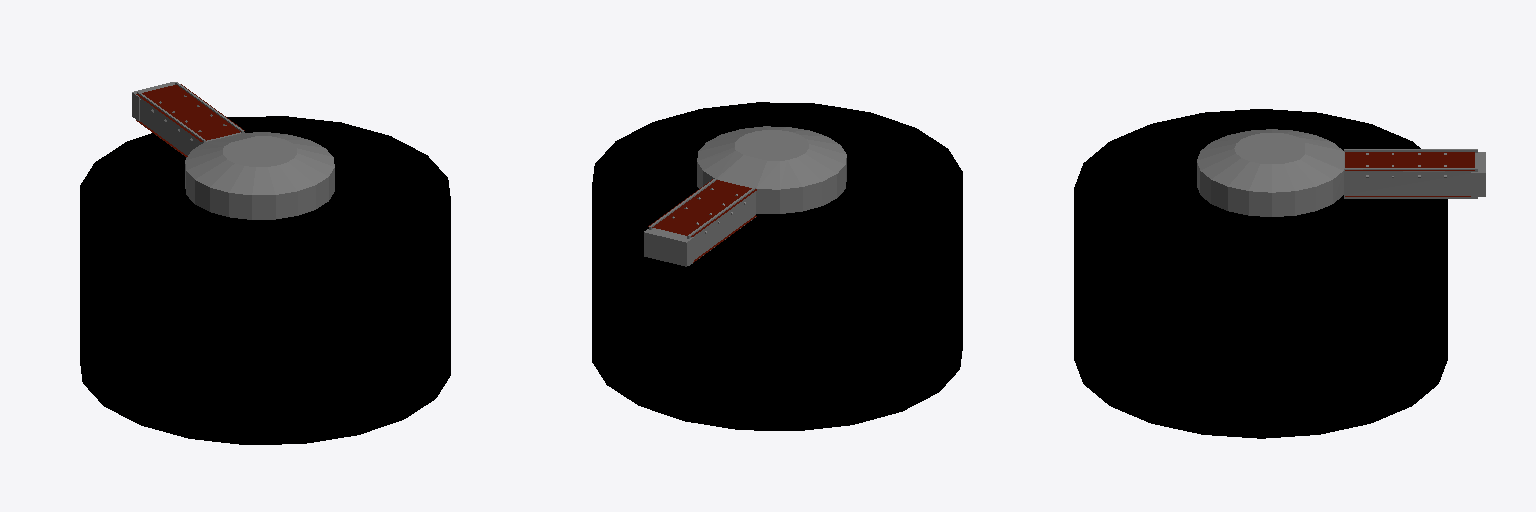
File: Drop_Pod_Hangar.obj
3 renders of one model, left to right at view 1: azimuth 30°, elevation 25°; view 2: azimuth 150°, elevation 25°; view 3: azimuth 270°, elevation 25°, orthographic.
Visible parts, largest first — view 1: Skybox, hangar, glowy_thing_top; view 2: Skybox, hangar, glowy_thing_top, Door_Frame; view 3: Skybox, hangar, glowy_thing_top, Door_Frame.
Part boxes in pixels (left/top/right/bottom): Skybox: left=80, top=116, right=450, bottom=444; hangar: left=137, top=82, right=334, bottom=219; glowy_thing_top: left=136, top=84, right=244, bottom=141; Skybox: left=592, top=102, right=962, bottom=430; hangar: left=649, top=126, right=846, bottom=265; glowy_thing_top: left=648, top=179, right=756, bottom=236; Door_Frame: left=644, top=228, right=693, bottom=266; Skybox: left=1074, top=109, right=1447, bottom=438; hangar: left=1197, top=129, right=1477, bottom=216; glowy_thing_top: left=1345, top=152, right=1474, bottom=170; Door_Frame: left=1471, top=152, right=1485, bottom=196.
Size of the model in its own units: 494 by 314 by 544.